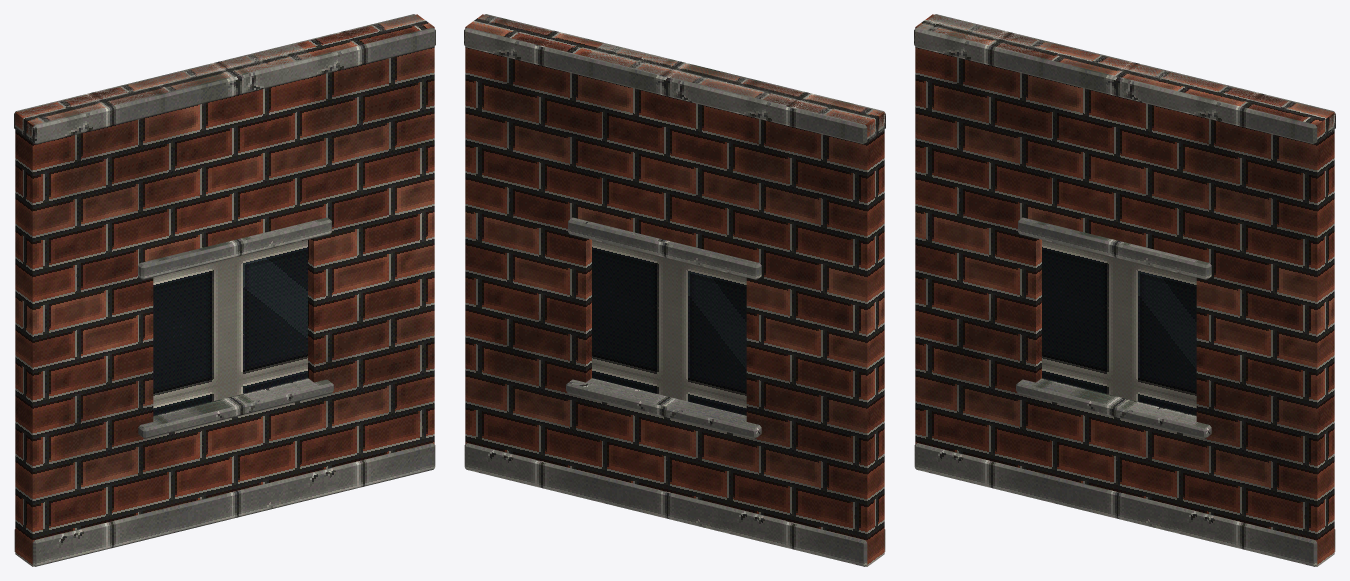
The model's file is wall_brick_glass.glb.
3 views of the same model, side by side, from view 1: azimuth 30°, elevation 25°; view 2: azimuth 150°, elevation 25°; view 3: azimuth 330°, elevation 25° (orthographic).
Visible parts, largest first — view 1: wall_brick_glass_mesh; view 2: wall_brick_glass_mesh; view 3: wall_brick_glass_mesh.
Part boxes in pixels (<box>): wall_brick_glass_mesh: <box>14,14,435,566</box>; wall_brick_glass_mesh: <box>464,14,885,566</box>; wall_brick_glass_mesh: <box>914,14,1335,566</box>.
Size of what is drawn, in the model's own units: 4 by 4.2 by 0.5.
Materials: 3 (3 with a texture image).
